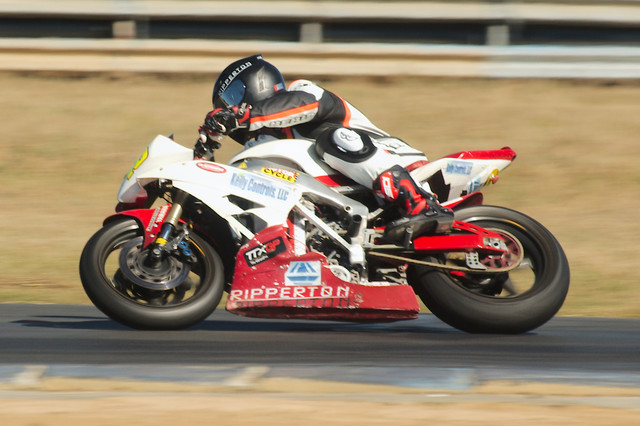helmet: (213, 56, 281, 111)
